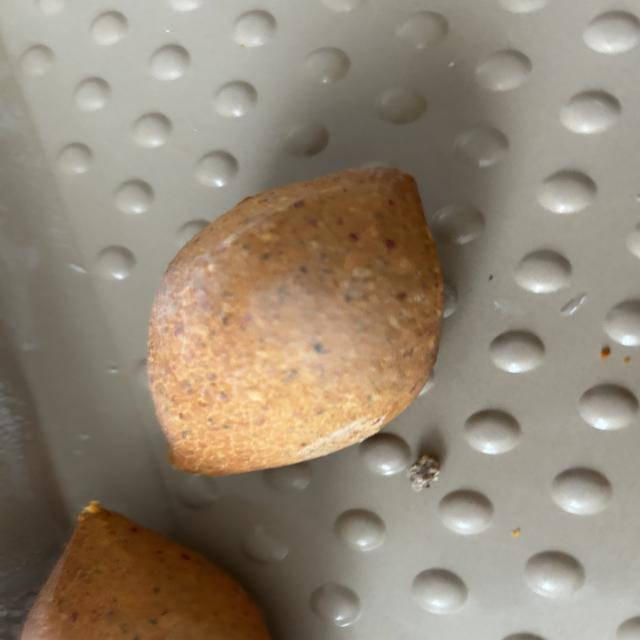kobi: (145, 165, 446, 476)
